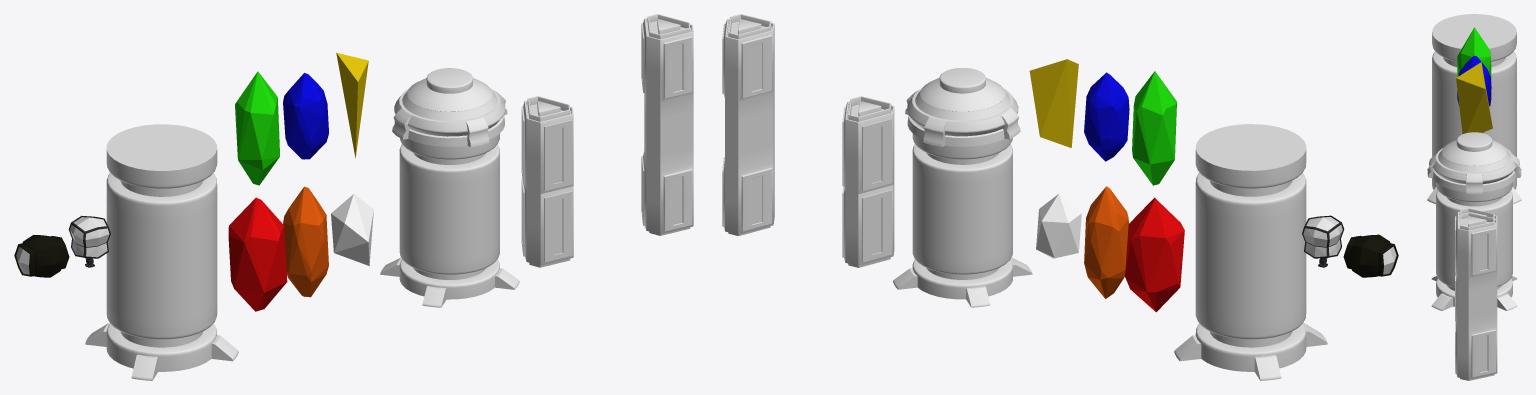
Rendered from PropsMagicos.fbx.
The picture shows the model from 3 angles, left to right: view 1: azimuth 30°, elevation 25°; view 2: azimuth 150°, elevation 25°; view 3: azimuth 270°, elevation 25°; orthographic projection. The views are drawn at different scales.
Parts seen in each view (by area): view 1: Cylinder.015, Cylinder.017, Cylinder.021, Cylinder.020, Icosphere.001, Icosphere, Icosphere.003, Icosphere.002, Icosphere.004, Cube.047, Icosphere.005, Cube.048 (+3 smaller); view 2: Cylinder.015, Cylinder.017, Cylinder.021, Cylinder.020, Icosphere.001, Icosphere.003, Icosphere, Icosphere.005, Icosphere.002, Icosphere.004, Cube.047, Cube.048 (+3 smaller); view 3: Cylinder.017, Cylinder.015, Cylinder.021, Icosphere.005, Icosphere.003, Cylinder.019, Cylinder.018, Icosphere.002, Cylinder.020, Cylinder.016.
Boxes of the visible parts, x1=… form: Cylinder.015: x1=106, y1=124, x2=217, y2=371; Cylinder.017: x1=394, y1=68, x2=505, y2=299; Cylinder.021: x1=641, y1=14, x2=693, y2=235; Cylinder.020: x1=521, y1=96, x2=573, y2=267; Icosphere.001: x1=228, y1=197, x2=287, y2=311; Icosphere: x1=283, y1=186, x2=328, y2=297; Icosphere.003: x1=235, y1=71, x2=279, y2=185; Icosphere.002: x1=283, y1=73, x2=328, y2=159; Icosphere.004: x1=331, y1=194, x2=373, y2=265; Cube.047: x1=14, y1=235, x2=69, y2=277; Icosphere.005: x1=336, y1=52, x2=368, y2=158; Cube.048: x1=68, y1=215, x2=110, y2=267; Cylinder.015: x1=1195, y1=124, x2=1306, y2=371; Cylinder.017: x1=907, y1=68, x2=1018, y2=299; Cylinder.021: x1=722, y1=14, x2=774, y2=235; Cylinder.020: x1=842, y1=96, x2=894, y2=267; Icosphere.001: x1=1125, y1=197, x2=1184, y2=312; Icosphere.003: x1=1132, y1=71, x2=1176, y2=185; Icosphere: x1=1084, y1=186, x2=1128, y2=298; Icosphere.005: x1=1029, y1=59, x2=1078, y2=147; Icosphere.002: x1=1084, y1=72, x2=1129, y2=161; Icosphere.004: x1=1036, y1=194, x2=1081, y2=258; Cube.047: x1=1343, y1=234, x2=1398, y2=277; Cube.048: x1=1302, y1=215, x2=1344, y2=267; Cylinder.017: x1=1432, y1=132, x2=1516, y2=306; Cylinder.015: x1=1432, y1=14, x2=1516, y2=189; Cylinder.021: x1=1455, y1=212, x2=1497, y2=380; Icosphere.005: x1=1456, y1=62, x2=1492, y2=133; Icosphere.003: x1=1457, y1=27, x2=1491, y2=81; Cylinder.019: x1=1427, y1=154, x2=1521, y2=193; Cylinder.018: x1=1431, y1=276, x2=1517, y2=310; Icosphere.002: x1=1457, y1=55, x2=1491, y2=106; Cylinder.020: x1=1455, y1=208, x2=1497, y2=321; Cylinder.016: x1=1427, y1=168, x2=1521, y2=204.
Size of the model in its own units: 2796 by 1022 by 446.
